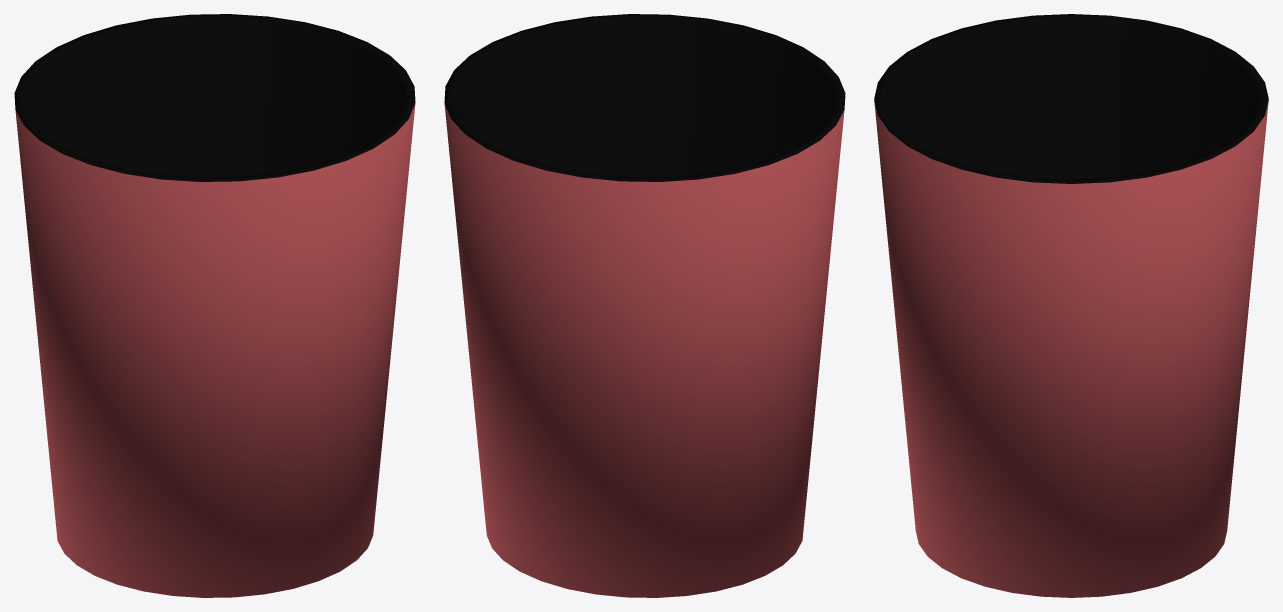
File: tachodebasura.fbx
3 renders of one model, left to right at view 1: azimuth 30°, elevation 25°; view 2: azimuth 150°, elevation 25°; view 3: azimuth 270°, elevation 25°, orthographic.
Parts seen in each view (by area): view 1: Cilindro.007; view 2: Cilindro.007; view 3: Cilindro.007.
Boxes of the visible parts, left/top/right/bottom form: Cilindro.007: left=14, top=14, right=415, bottom=597; Cilindro.007: left=444, top=14, right=845, bottom=597; Cilindro.007: left=874, top=14, right=1268, bottom=597.
Bounding box in the file's own units: 109 × 129 × 107.
